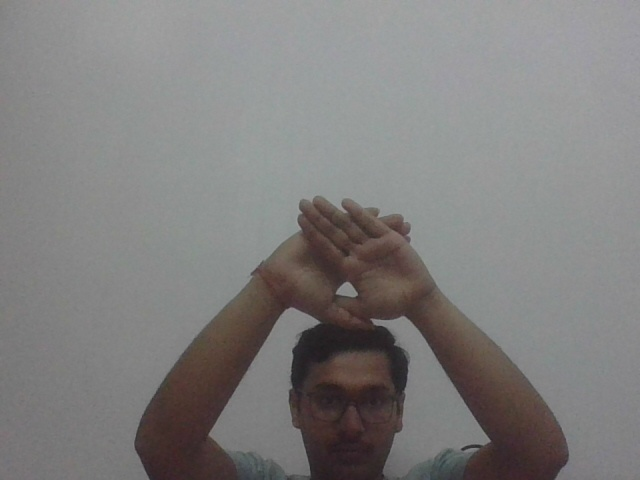W: (259, 190, 448, 331)
